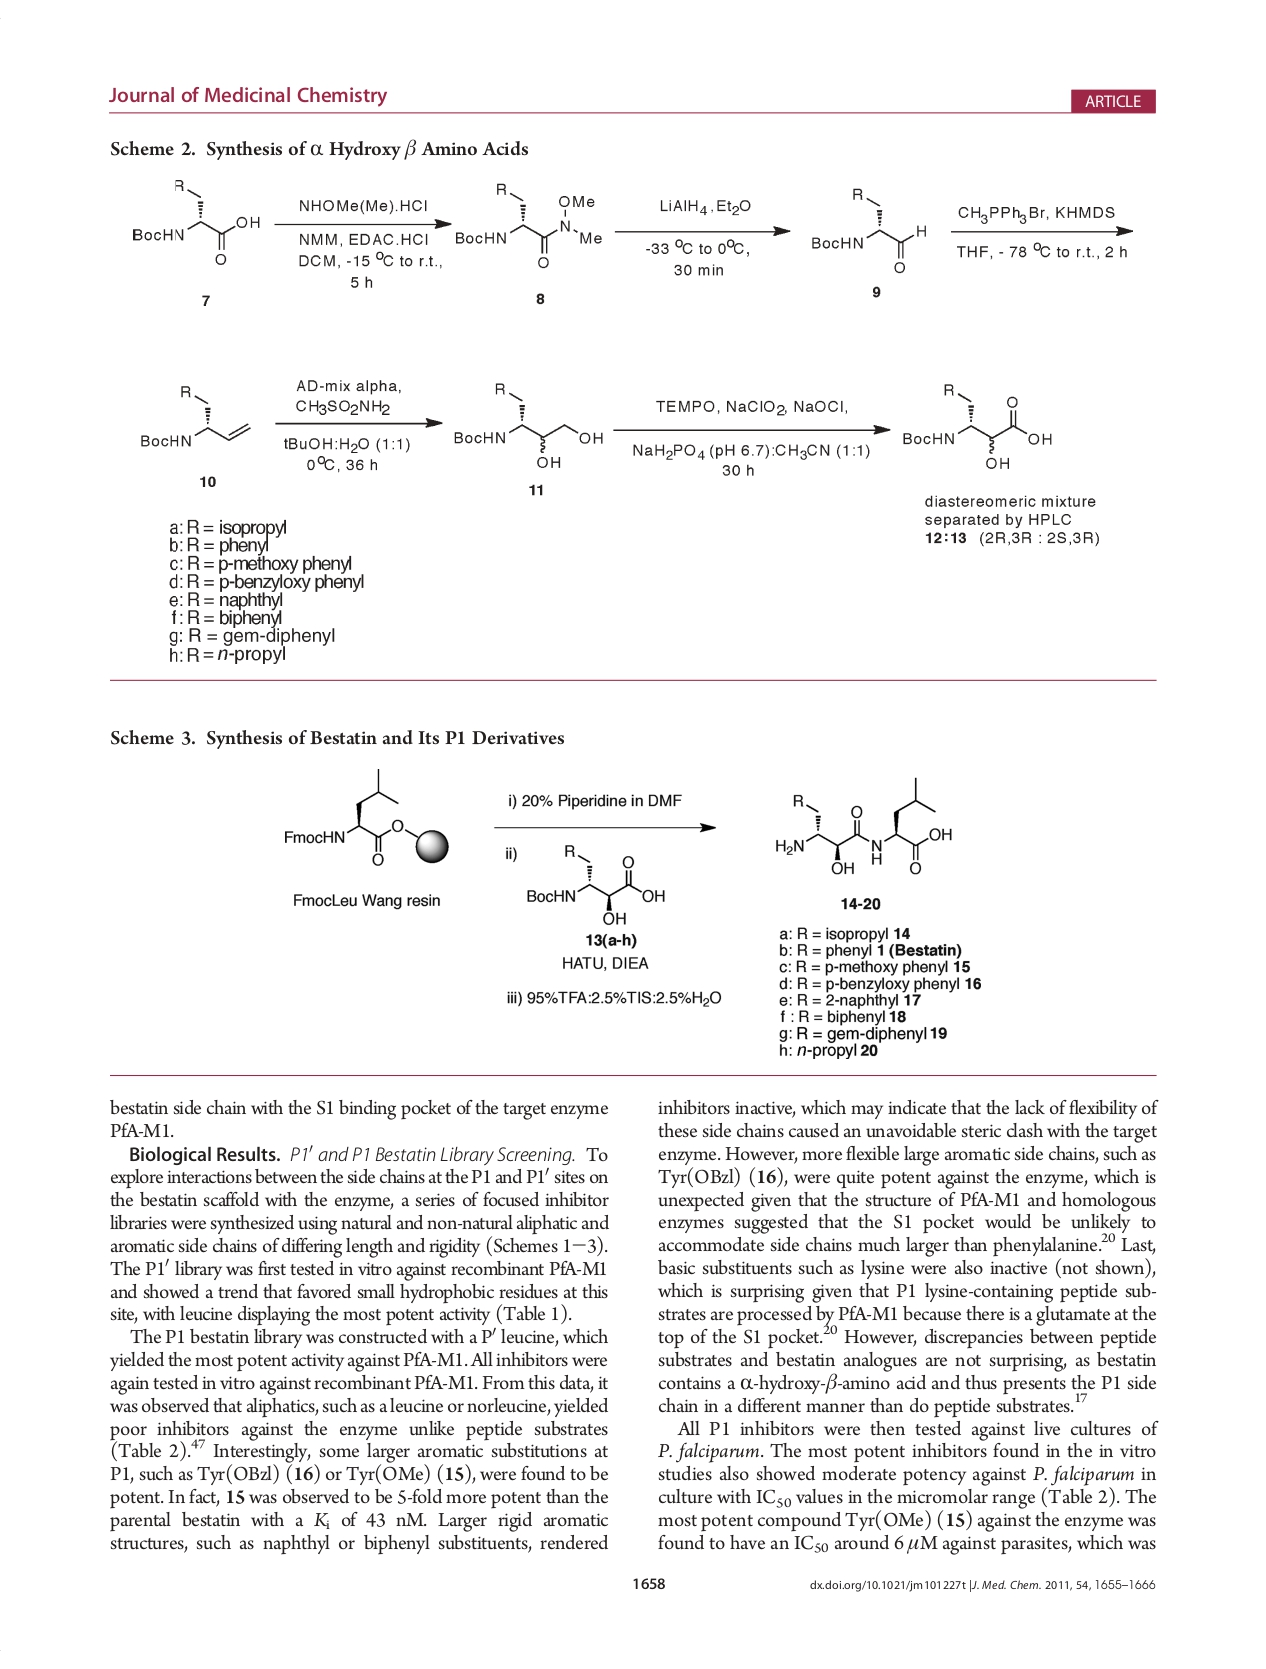exist_molecular: (769, 774, 957, 883), (282, 767, 451, 875), (896, 378, 1056, 471), (448, 379, 609, 469), (449, 177, 606, 269), (523, 838, 668, 928), (805, 184, 930, 283), (130, 176, 263, 266), (136, 375, 257, 453)
